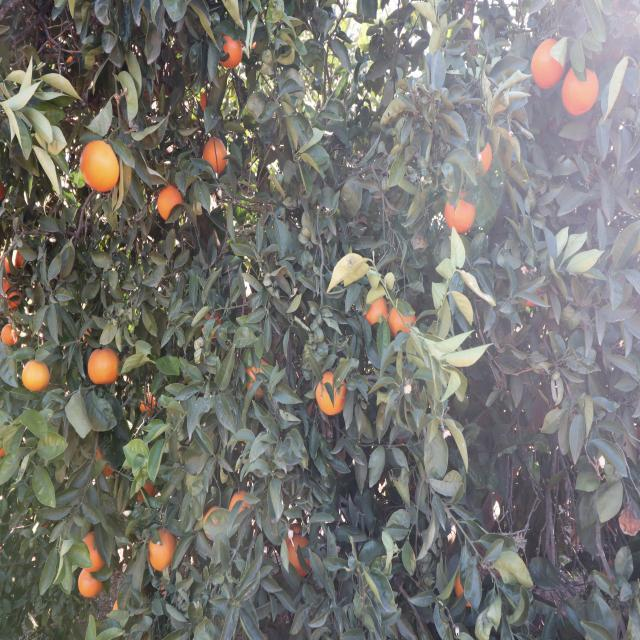Jeruk Sudah Matang: (558, 66, 606, 118), (79, 136, 122, 194), (275, 536, 320, 578), (530, 38, 564, 90), (312, 373, 352, 416), (243, 358, 276, 408), (464, 130, 494, 177), (146, 528, 176, 574), (452, 564, 482, 610), (444, 193, 476, 236), (386, 303, 426, 337), (76, 535, 110, 573), (216, 30, 246, 72), (89, 348, 122, 386), (18, 356, 51, 392), (360, 292, 388, 331), (75, 567, 109, 598), (154, 185, 182, 222), (204, 502, 228, 544), (201, 139, 230, 173), (231, 486, 255, 524), (91, 446, 118, 478), (200, 309, 226, 342), (1, 246, 29, 273), (138, 390, 158, 420), (6, 290, 28, 314), (0, 324, 20, 346), (199, 90, 215, 112)
